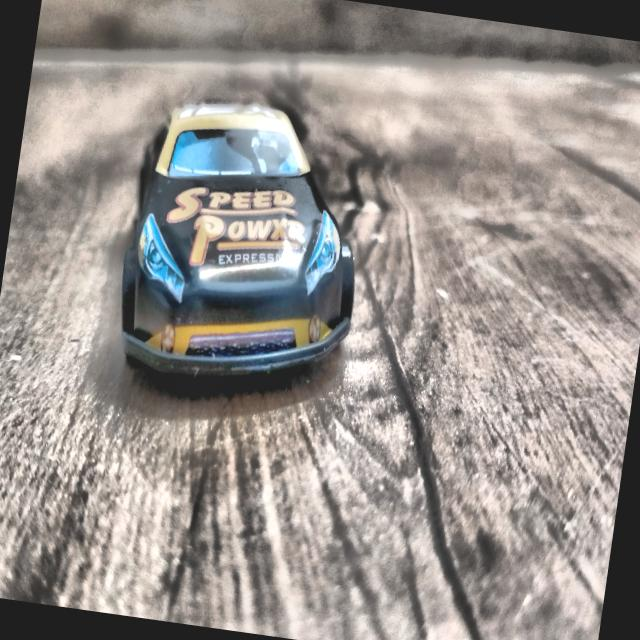Car: (104, 84, 392, 399)
